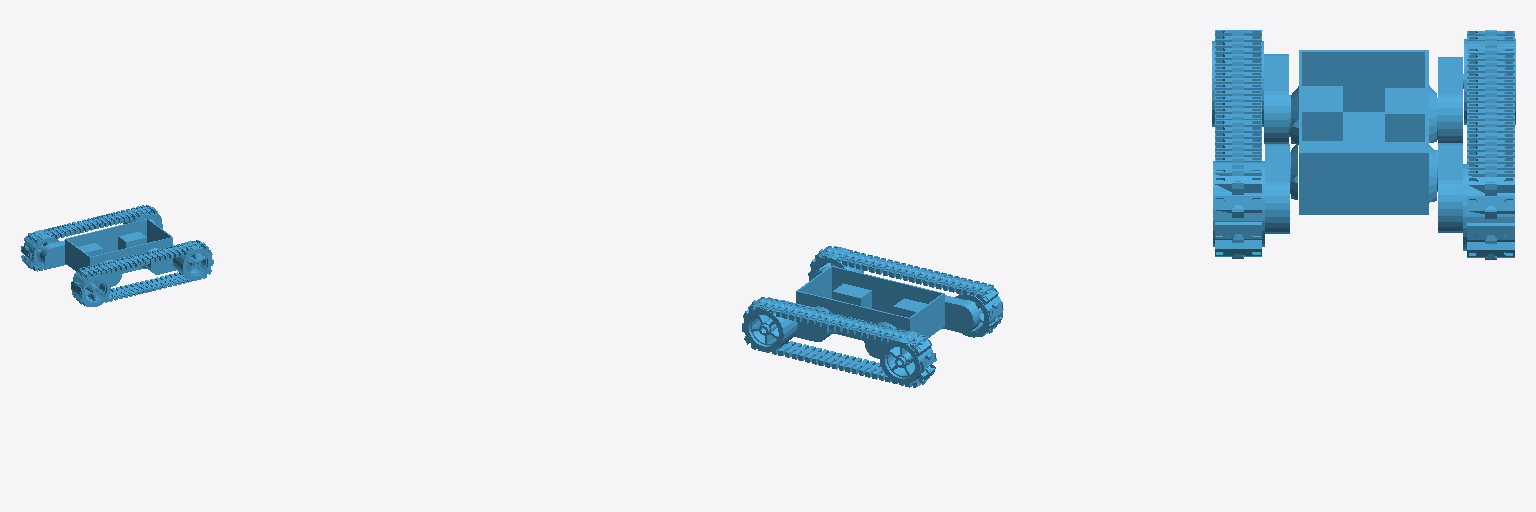
The robot description file, URDF, robot "rover5":
<robot name="rover5">

<!-- BASE_FOOTPRINT -->
    <link name="base_footprint">
        <inertial>
            <mass value="0.0001" />
            <origin xyz="0 0 0" />
            <inertia ixx="0.0001" ixy="0.0" ixz="0.0"
                     iyy="0.0001" iyz="0.0" 
                     izz="0.0001" />
        </inertial>
        <visual>
            <origin xyz="0 0 0" rpy="0 0 0" />
            <geometry>
                <box size="0.001 0.001 0.001" />
            </geometry>
        </visual>
    </link>
    
    <!-- BASE_LINK -->
    <link name="base_link">
         <visual>
					<origin xyz="0 0 0" rpy="0 0 0" />
      		<geometry>
        		<mesh filename="package://rover5/meshes/rover5.stl"  scale="0.001 0.001 0.001"/>
      		</geometry>
        </visual>    
    </link>

    <joint name="base_footprint_joint" type="fixed">
		<origin xyz="0 0 0" rpy="0 0 0" />
        <parent link="base_footprint"/>
        <child link="base_link" />
    </joint>
 </robot>

--- Facts derived from the render (not from the file) ---
3 views of the same robot in one strip: view 1: azimuth 30°, elevation 25°; view 2: azimuth 150°, elevation 25°; view 3: azimuth 270°, elevation 25° (orthographic).
Model rover5 with 2 links and 1 joints (1 fixed), rooted at base_footprint, posed every joint at zero.
Visible links, largest first — view 1: base_link; view 2: base_link; view 3: base_link.
Boxes of the visible links, x1,y1,x2,y2 form: base_link: [21, 205, 213, 306]; base_link: [742, 246, 1003, 387]; base_link: [1212, 30, 1515, 259].
Size in the robot's own frame: 2.79 by 1.18 by 0.257 metres.
Meshes: 1 distinct files referenced, 1 mesh visuals loaded (1 binary STL).